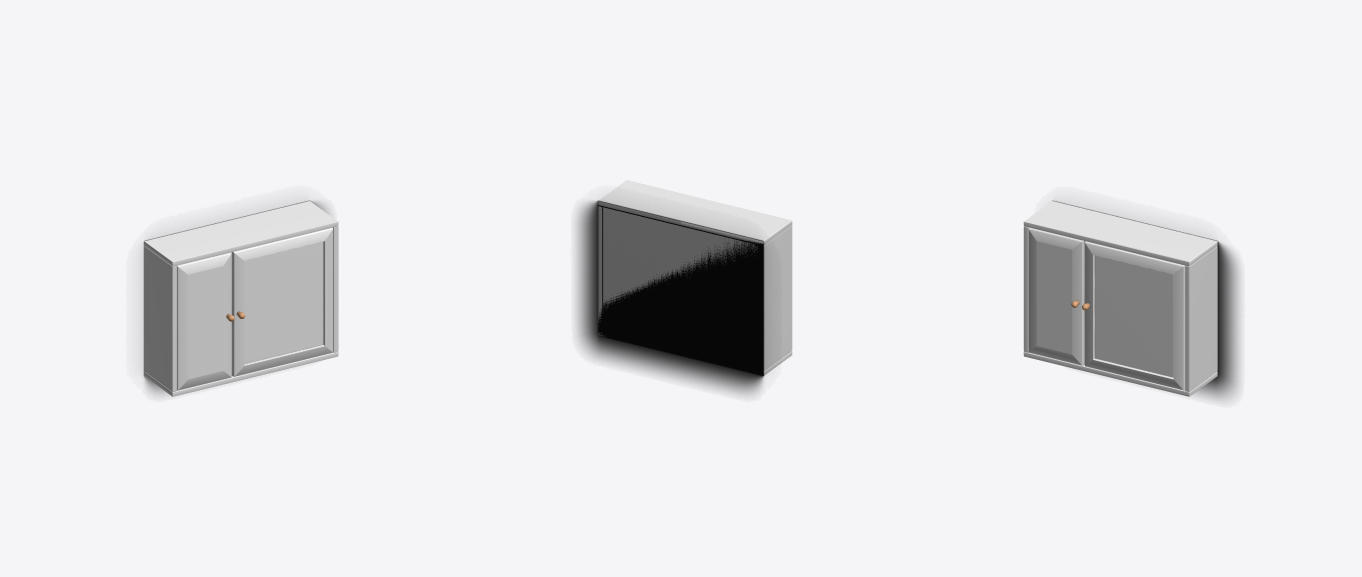
The model's file is storage.glb.
3 views of the same model, side by side, from view 1: azimuth 30°, elevation 25°; view 2: azimuth 150°, elevation 25°; view 3: azimuth 330°, elevation 25° (orthographic).
Visible parts, largest first — view 1: Willow Wall Cabinet, Plane001; view 2: Plane001, Willow Wall Cabinet; view 3: Willow Wall Cabinet, Plane001.
Part boxes in pixels (box(x1,y1,x2,y2)): Willow Wall Cabinet: box(144, 201, 338, 396); Plane001: box(143, 200, 329, 394); Plane001: box(577, 200, 764, 394); Willow Wall Cabinet: box(598, 180, 792, 375); Willow Wall Cabinet: box(1023, 201, 1217, 396); Plane001: box(1052, 200, 1238, 399).
Bounding box in the file's own units: 154 × 154 × 21.34.
5 materials, 5 textured.
